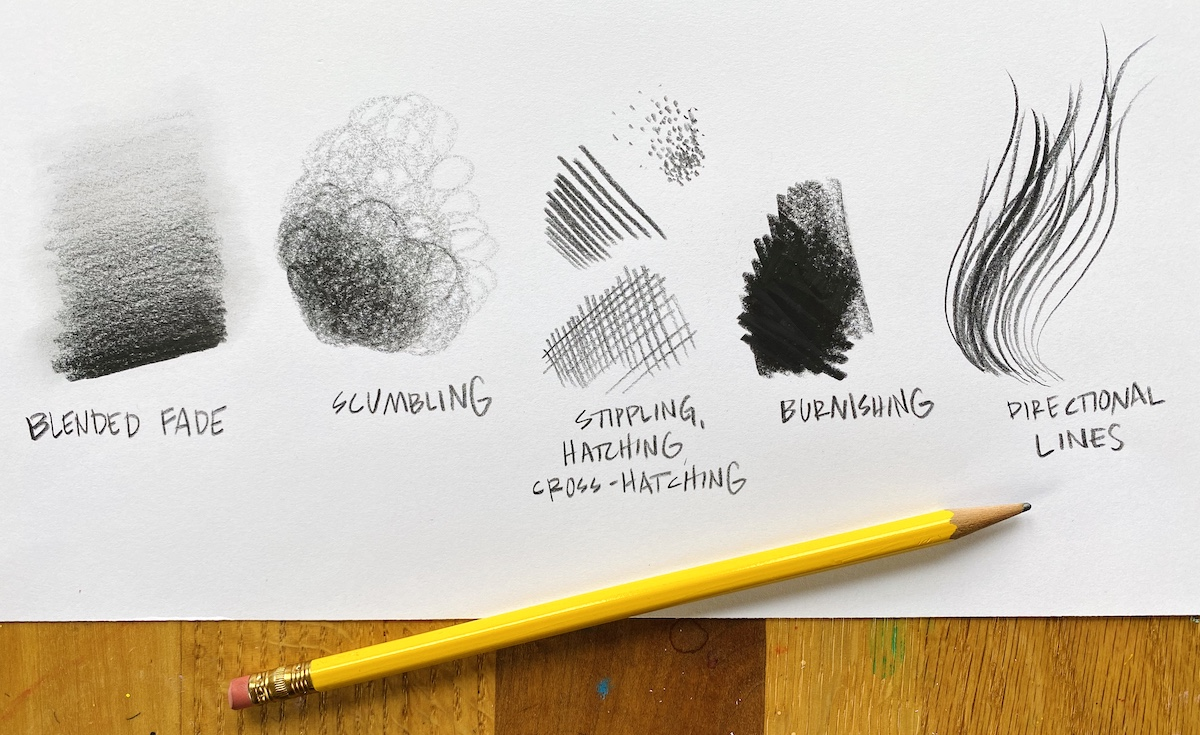pencil: (152, 501, 1127, 734)
